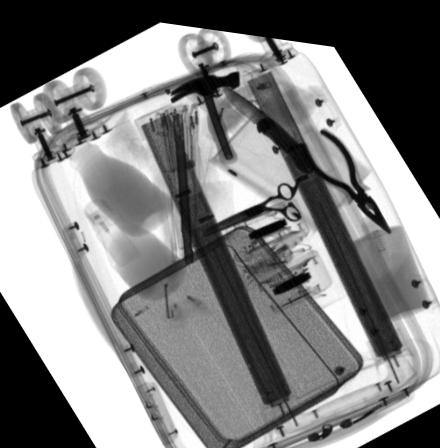Hammer: (168, 63, 239, 157)
Knife: (221, 77, 317, 166)
Pliers: (295, 119, 392, 224)
Scissors: (198, 169, 303, 231)
